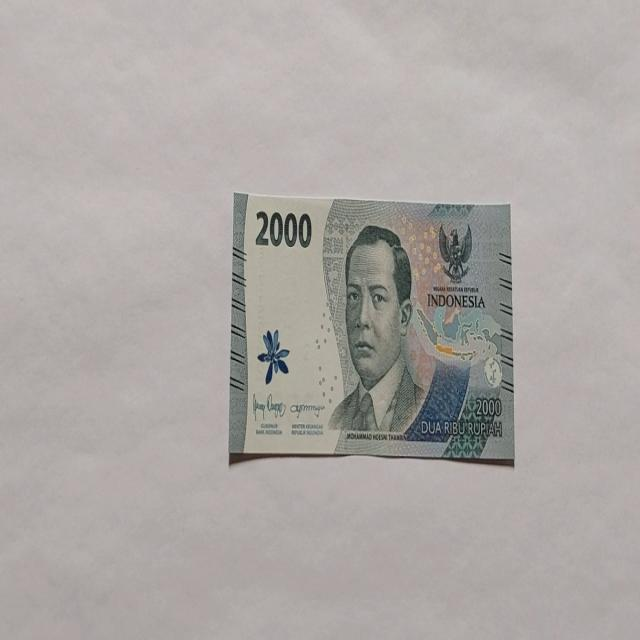dua ribu rupiah: (228, 190, 514, 465), (327, 223, 427, 439)
